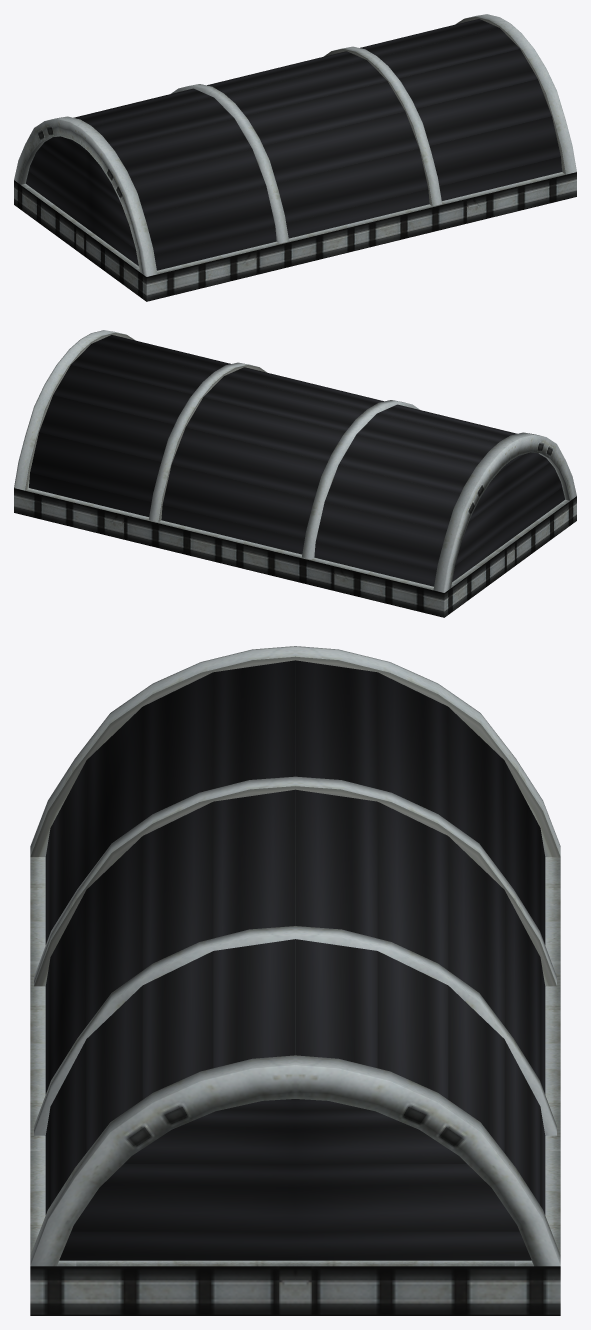
Rendered from coberturacorredor.fbx.
The picture shows the model from 3 angles, top to bottom: view 1: azimuth 30°, elevation 25°; view 2: azimuth 150°, elevation 25°; view 3: azimuth 270°, elevation 25°; orthographic projection. The views are drawn at different scales.
Visible parts, largest first — view 1: glass.001_Untitled.001, glass.001_Untitled.000; view 2: glass.001_Untitled.001, glass.001_Untitled.000; view 3: glass.001_Untitled.001, glass.001_Untitled.000.
Part boxes in pixels (x1,y1,x2,y2): glass.001_Untitled.001: (25,19,561,270); glass.001_Untitled.000: (14,14,576,301); glass.001_Untitled.001: (29,335,565,586); glass.001_Untitled.000: (14,330,576,617); glass.001_Untitled.001: (45,660,545,1260); glass.001_Untitled.000: (30,646,560,1315).
Bounding box in the file's own units: 12.99 × 3.6 × 6.93.
